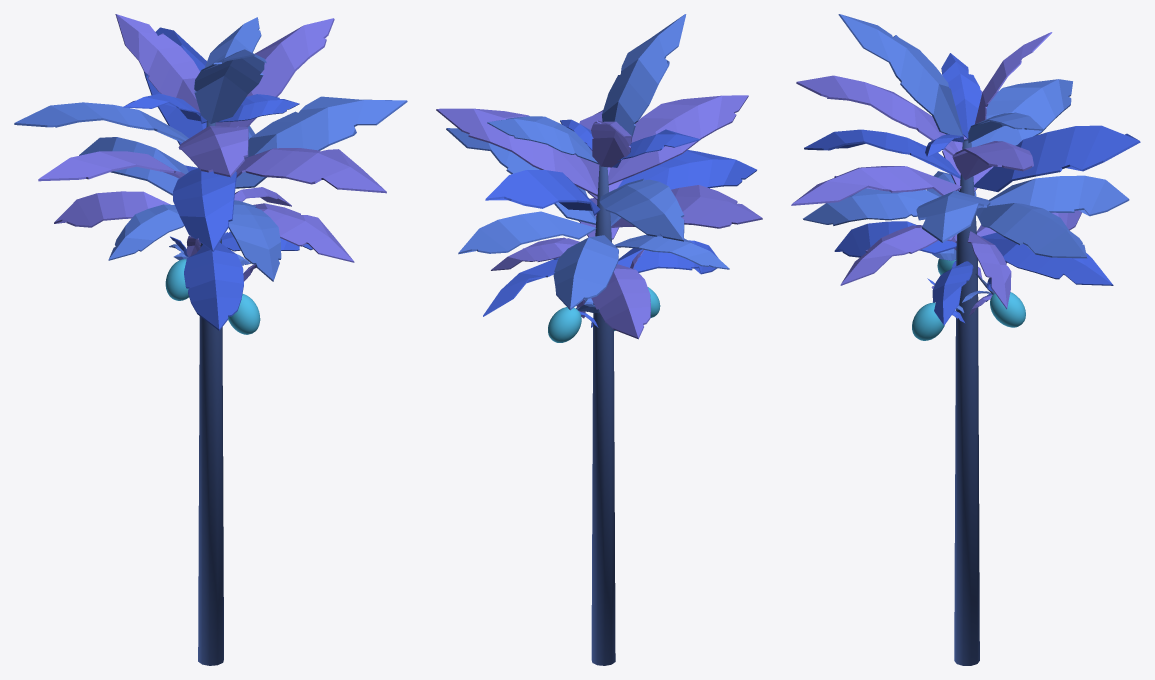
Rendered from tree2_w_fruit.fbx.
3 renders of one model, left to right at view 1: azimuth 30°, elevation 25°; view 2: azimuth 150°, elevation 25°; view 3: azimuth 270°, elevation 25°, orthographic. The views are drawn at different scales.
Visible parts, largest first — view 1: Cylinder, Plane.012, Plane.019, Plane, Plane.016, Plane.015, Plane.006, Plane.007, Plane.018, Plane.013, Plane.024, Plane.005 (+11 smaller); view 2: Cylinder, Plane.024, Plane.006, Plane.007, Plane.018, Plane.020, Plane.014, Plane.015, Plane.017, Plane.005, Plane.004, Plane.023 (+9 smaller); view 3: Cylinder, Plane.017, Plane.006, Plane.020, Plane.014, Plane.018, Plane.019, Plane.024, Plane.013, Plane.011, Plane.012, Plane.015 (+10 smaller).
Boxes of the visible parts, bbox=[...] form: Cylinder: bbox=[198, 121, 223, 665]; Plane.012: bbox=[235, 96, 407, 188]; Plane.019: bbox=[236, 148, 386, 193]; Plane: bbox=[184, 242, 243, 330]; Plane.016: bbox=[115, 14, 200, 112]; Plane.015: bbox=[173, 168, 236, 251]; Plane.006: bbox=[194, 49, 266, 123]; Plane.007: bbox=[215, 18, 334, 127]; Plane.018: bbox=[14, 102, 188, 142]; Plane.013: bbox=[228, 200, 281, 281]; Plane.024: bbox=[178, 126, 248, 177]; Plane.005: bbox=[54, 191, 170, 227]; Cylinder: bbox=[591, 165, 615, 665]; Plane.024: bbox=[608, 95, 748, 185]; Plane.006: bbox=[602, 14, 686, 137]; Plane.007: bbox=[436, 108, 597, 196]; Plane.018: bbox=[599, 178, 684, 241]; Plane.020: bbox=[553, 235, 618, 310]; Plane.014: bbox=[458, 211, 596, 254]; Plane.015: bbox=[618, 150, 756, 189]; Plane.017: bbox=[485, 170, 600, 215]; Plane.005: bbox=[591, 264, 651, 339]; Plane.004: bbox=[611, 185, 762, 228]; Plane.023: bbox=[487, 116, 598, 164]; Cylinder: bbox=[954, 139, 979, 665]; Plane.017: bbox=[974, 125, 1140, 191]; Plane.006: bbox=[838, 14, 964, 139]; Plane.020: bbox=[988, 175, 1129, 216]; Plane.014: bbox=[977, 203, 1087, 258]; Plane.018: bbox=[971, 79, 1072, 147]; Plane.019: bbox=[791, 166, 961, 205]; Plane.024: bbox=[796, 75, 958, 155]; Plane.013: bbox=[803, 188, 938, 225]; Plane.011: bbox=[981, 232, 1113, 285]; Plane.012: bbox=[916, 190, 990, 242]; Plane.015: bbox=[804, 129, 960, 178].
Size of the model in its own units: 385 by 680 by 339.
